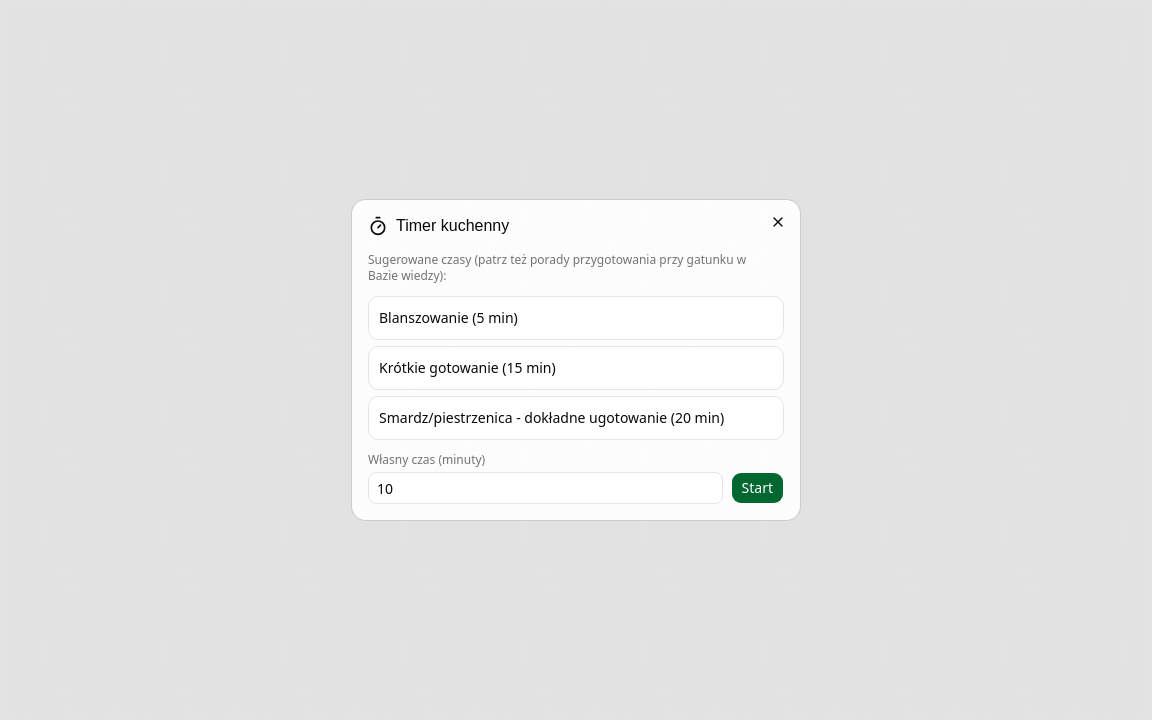
Test: CookingTimer › uruchamia własny czas z pola minut
Replace the text in the number field labelled "Własny czas (minuty)" with "2" at (545, 488), box [368,472,723,504]
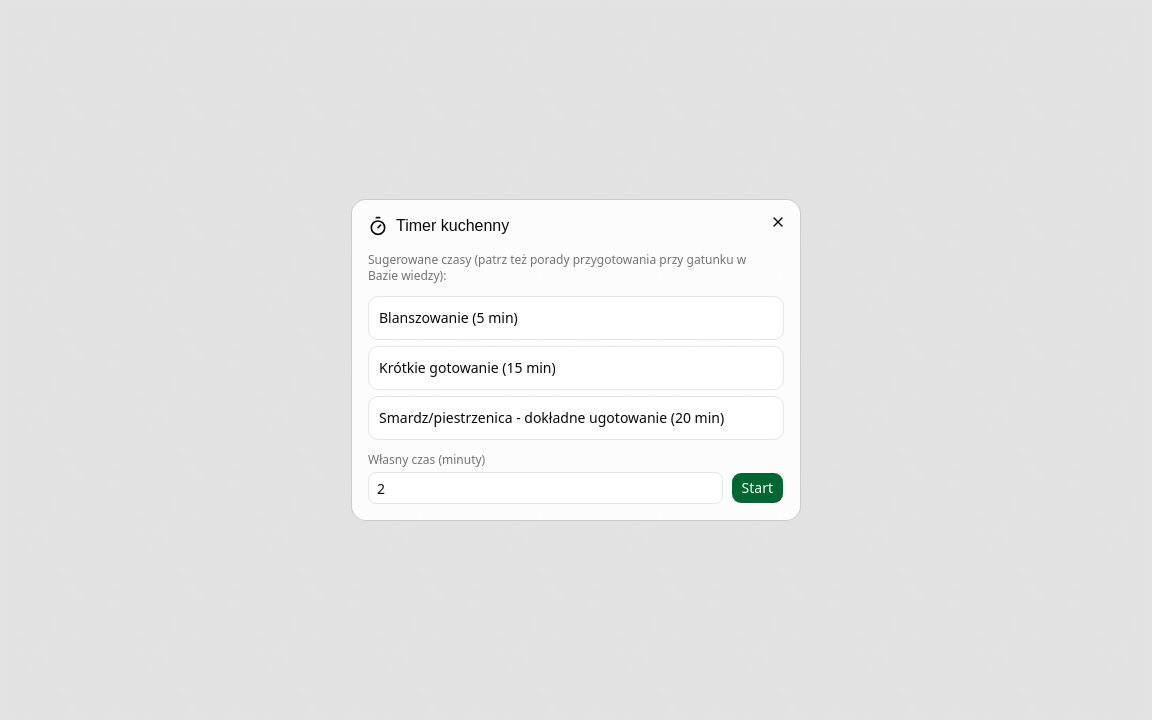
Click the button "Start" at (757, 488), box [731,472,784,504]
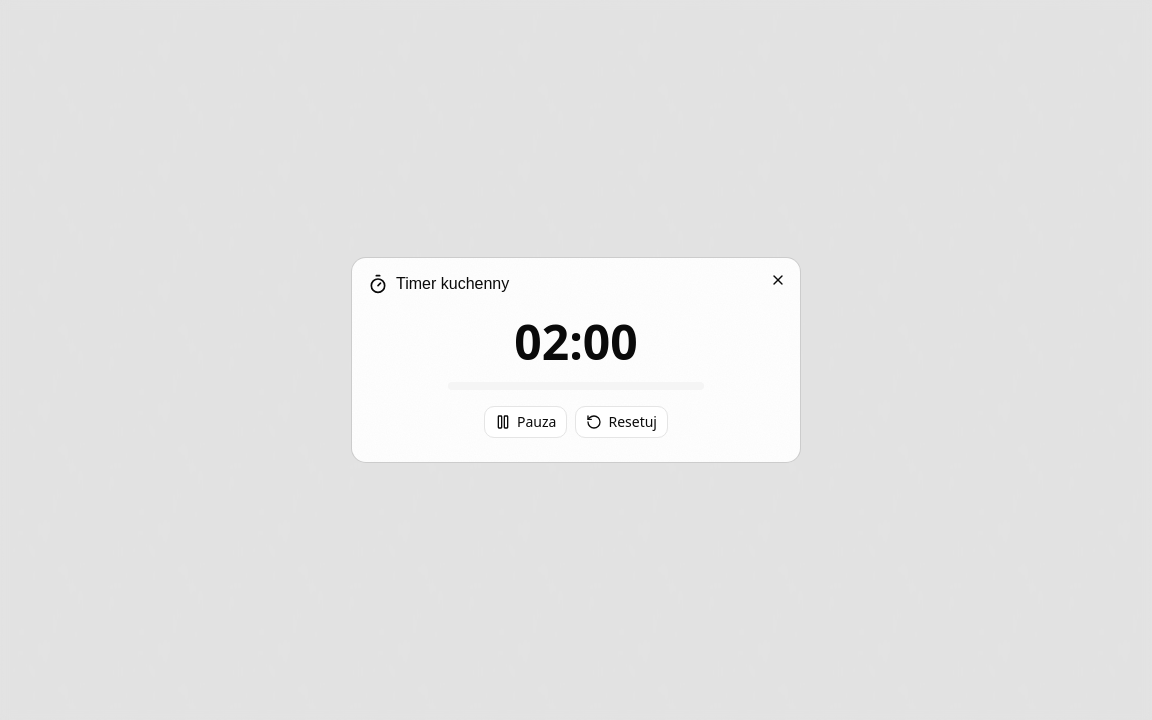
Expected: the text "02:00" is shown, [514,318,638,366]
